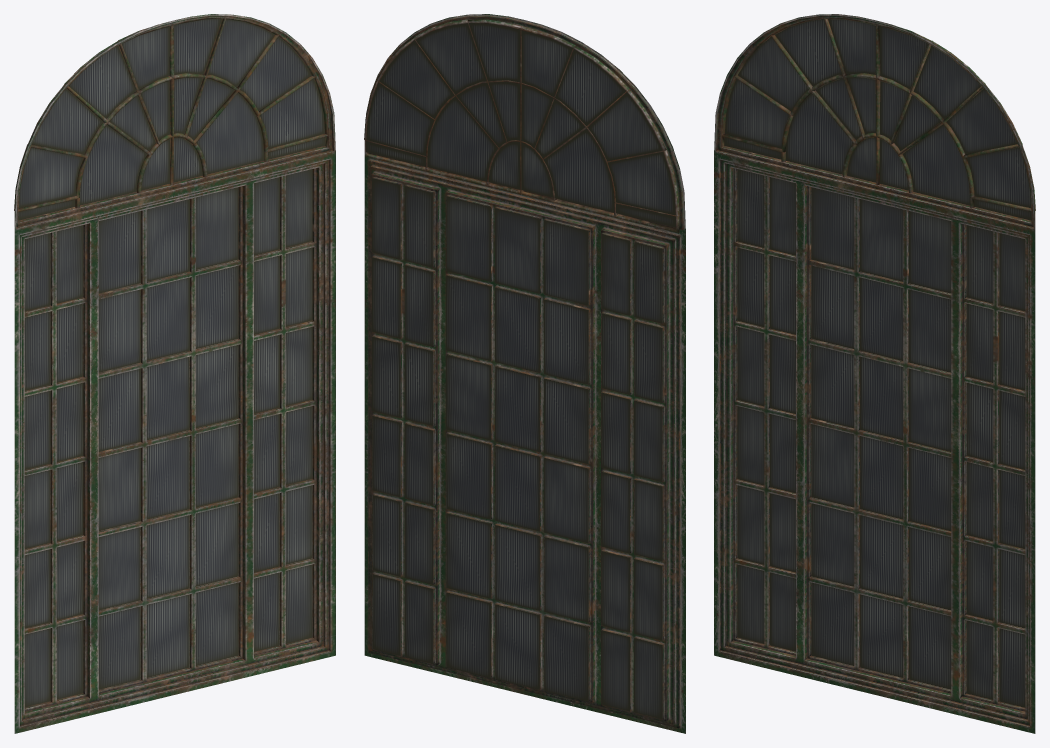
Rendered from map.gltf.
The picture shows the model from 3 angles, left to right: view 1: azimuth 30°, elevation 25°; view 2: azimuth 150°, elevation 25°; view 3: azimuth 330°, elevation 25°; orthographic projection.
Visible parts, largest first — view 1: Plane; view 2: Plane; view 3: Plane.
Part boxes in pixels (x1,y1,x2,y2): Plane: [14, 14, 335, 733]; Plane: [364, 14, 685, 733]; Plane: [714, 14, 1035, 733].
Size of the model in its own units: 2 by 4.01 by 0.085.
1 material, 1 textured.
